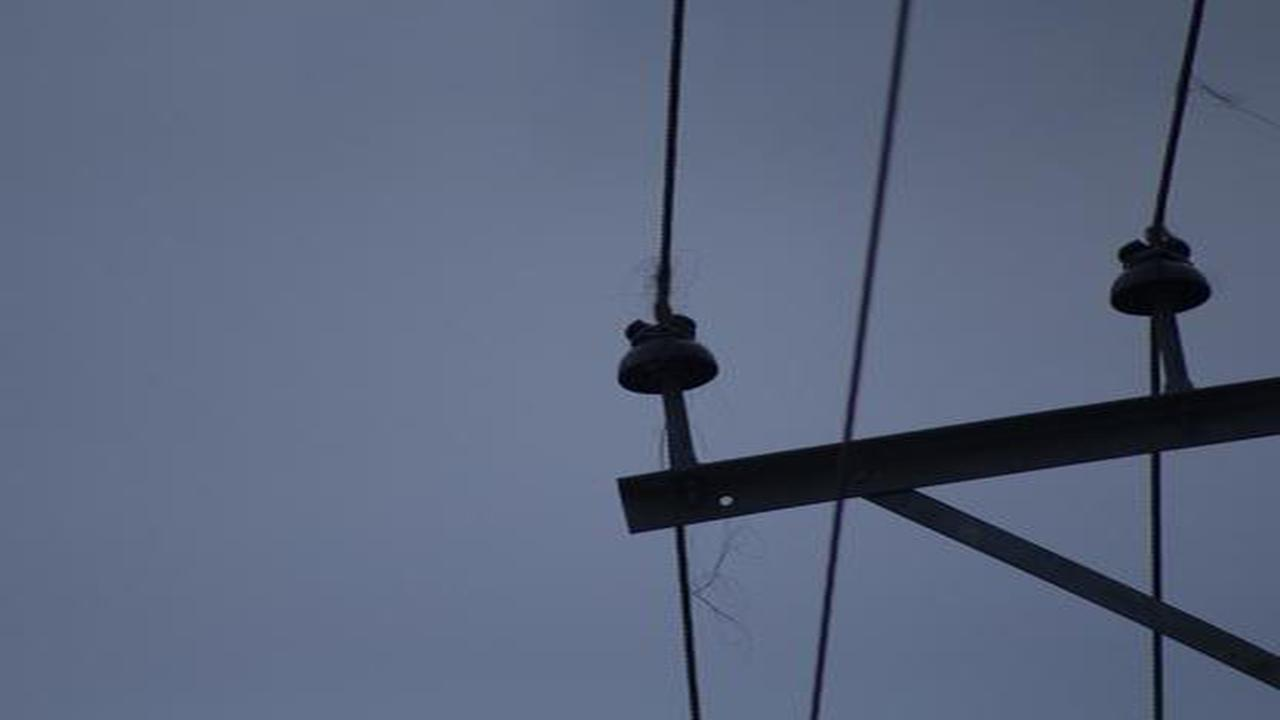insulator_pin: (1109, 230, 1216, 323), (615, 310, 723, 401)
